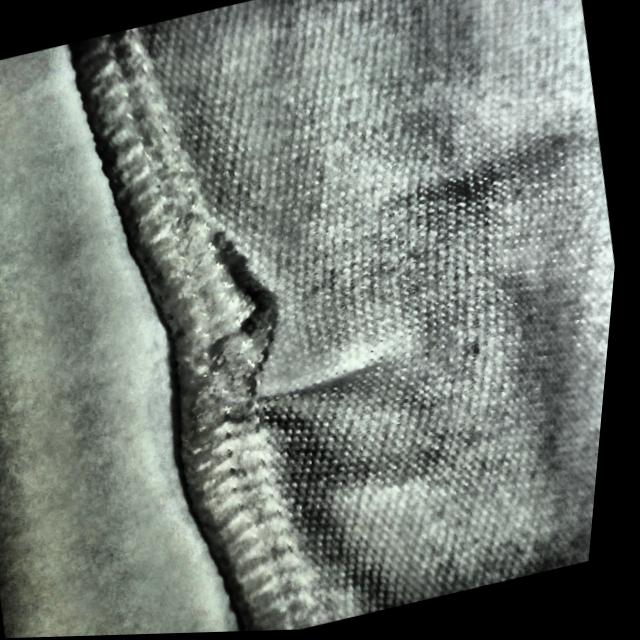seam: (146, 238, 404, 469)
